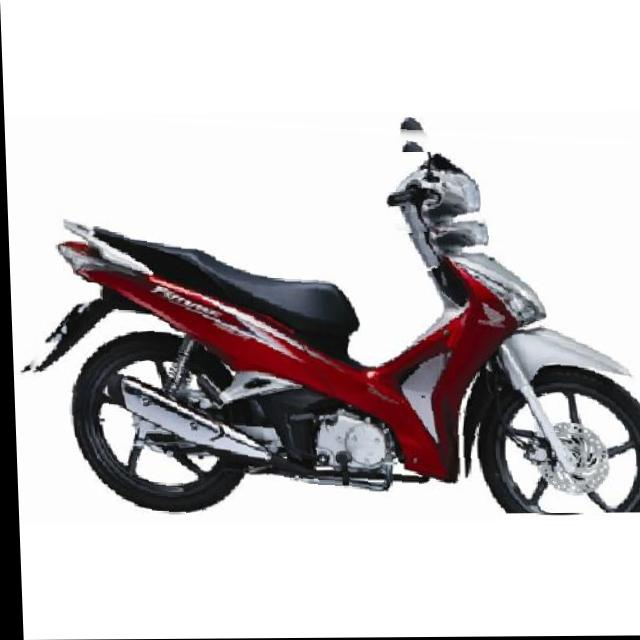All: (8, 105, 640, 517)
Head: (380, 152, 490, 236)
Tail: (50, 209, 124, 283)
